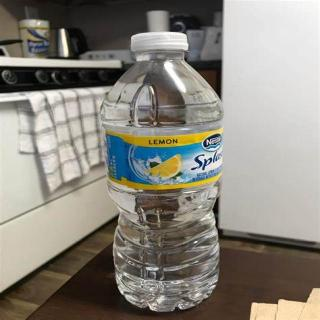Anorganik: (104, 28, 230, 311)
